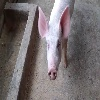heo: (36, 5, 70, 83)
